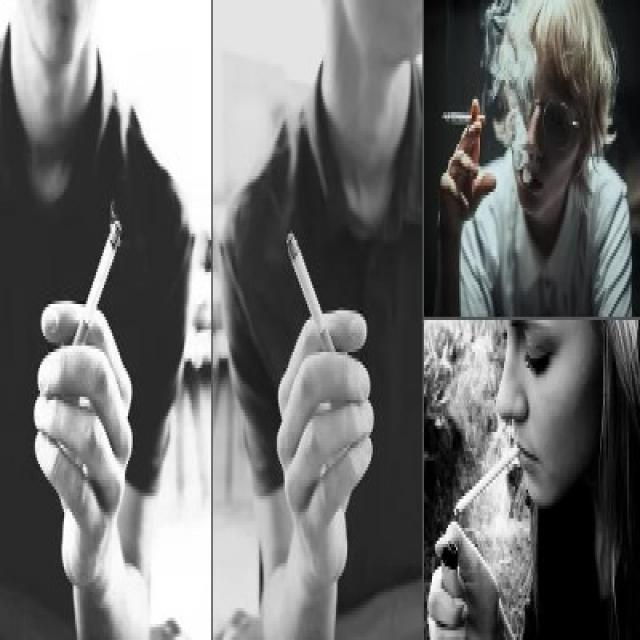smoke: (70, 218, 128, 358), (282, 227, 338, 362), (451, 438, 522, 522), (440, 102, 491, 132)
